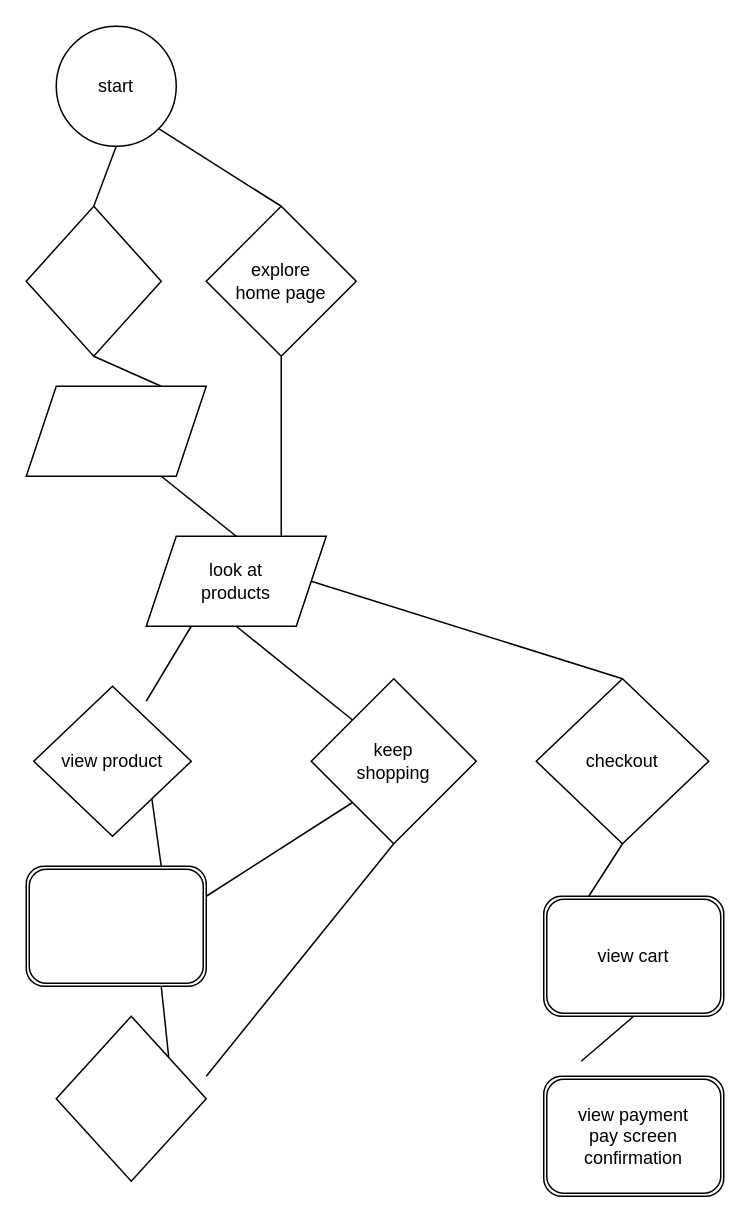
Image size: 750x1223. Some labels were removed from this diagram. The shapes that lost their labels are listed below. From the top down, each one's centre as x and y in pixels, then its label:
At point (93, 280): "search".
At point (115, 430): "search query input".
At point (115, 925): "open product webpage".
At point (130, 1098): "put item in shopping cart".
